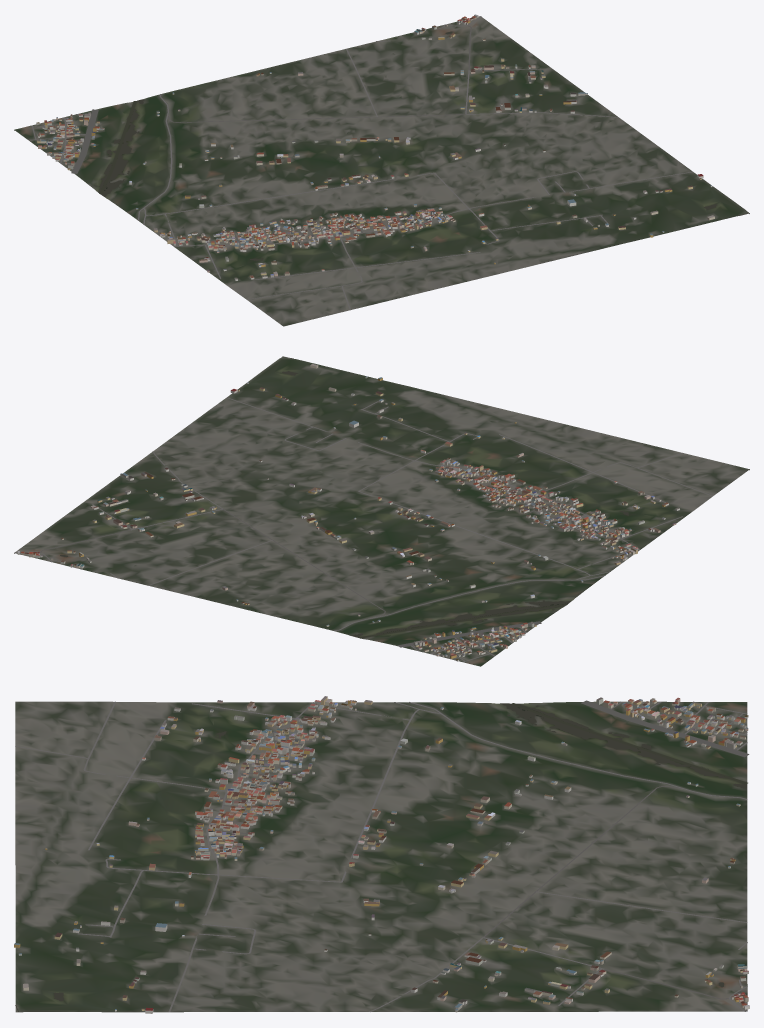
3 renders of one model, top to bottom at view 1: azimuth 30°, elevation 25°; view 2: azimuth 150°, elevation 25°; view 3: azimuth 270°, elevation 25°, orthographic. The views are drawn at different scales.
Visible parts, largest first — view 1: ground, buildings, roads, water; view 2: ground, buildings, roads, water; view 3: ground, buildings, roads, water.
Part boxes in pixels (bbox=[...]): ground: bbox=[14, 16, 749, 326]; buildings: bbox=[36, 14, 714, 280]; roads: bbox=[28, 16, 693, 310]; water: bbox=[94, 31, 748, 261]; ground: bbox=[14, 356, 749, 666]; buildings: bbox=[17, 363, 679, 661]; roads: bbox=[14, 397, 712, 662]; water: bbox=[60, 356, 628, 638]; ground: bbox=[15, 701, 747, 1012]; buildings: bbox=[14, 696, 749, 1013]; roads: bbox=[15, 700, 749, 1012]; water: bbox=[15, 703, 747, 1011].
Bounding box in the file's own units: 1416 × 17.12 × 1410.
